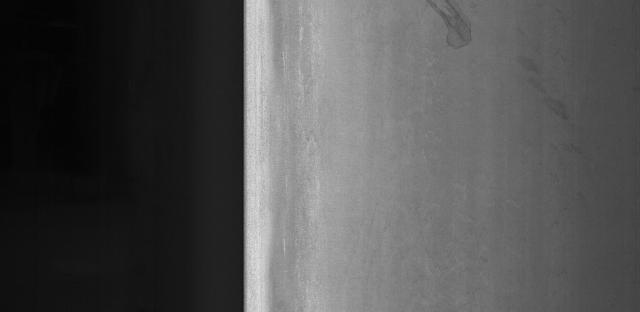water_spot: (516, 23, 591, 154), (419, 1, 487, 52)
